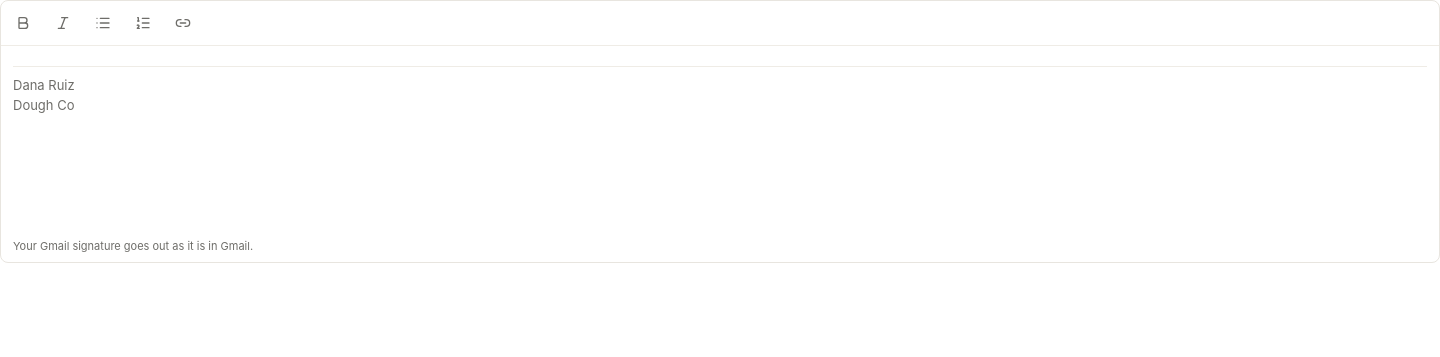
MailEditor › closes the link row with Cancel or a second press of Link, on a phone too
What coordinates should you click on to do the following:
click the button named "Link"
I would click on:
 (183, 23)
Its box is x1=165 y1=5 x2=201 y2=41.
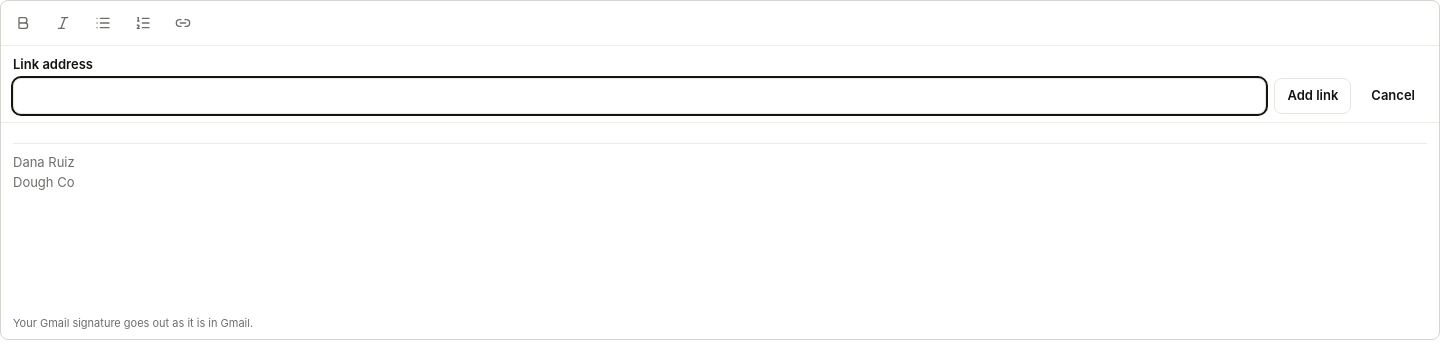
What coordinates should you click on to do the following:
click the button "Cancel"
I would click on:
 (1393, 96)
Its box is x1=1359 y1=78 x2=1427 y2=114.
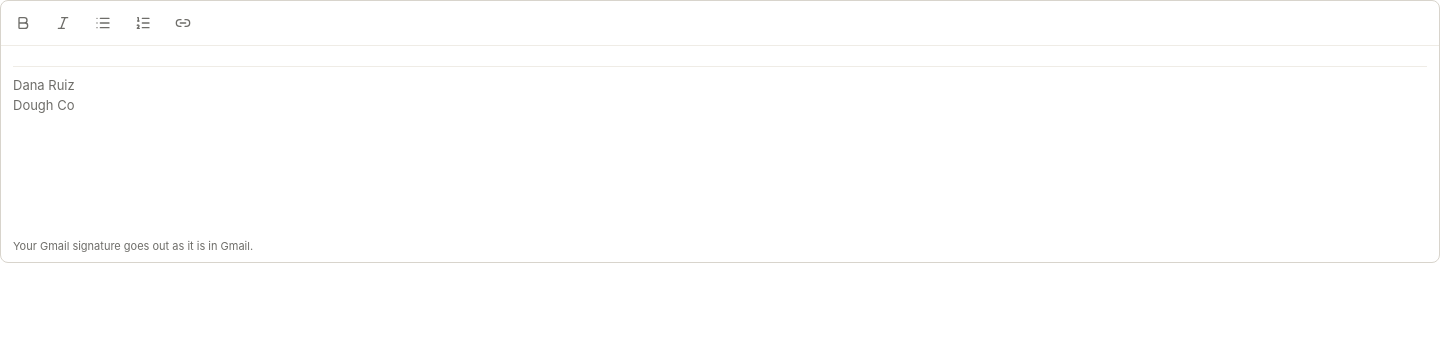
Now the text labelled "Link address" is gone
What coordinates should you click on to do the following:
click the button named "Link"
I would click on:
 (183, 23)
Its box is x1=165 y1=5 x2=201 y2=41.
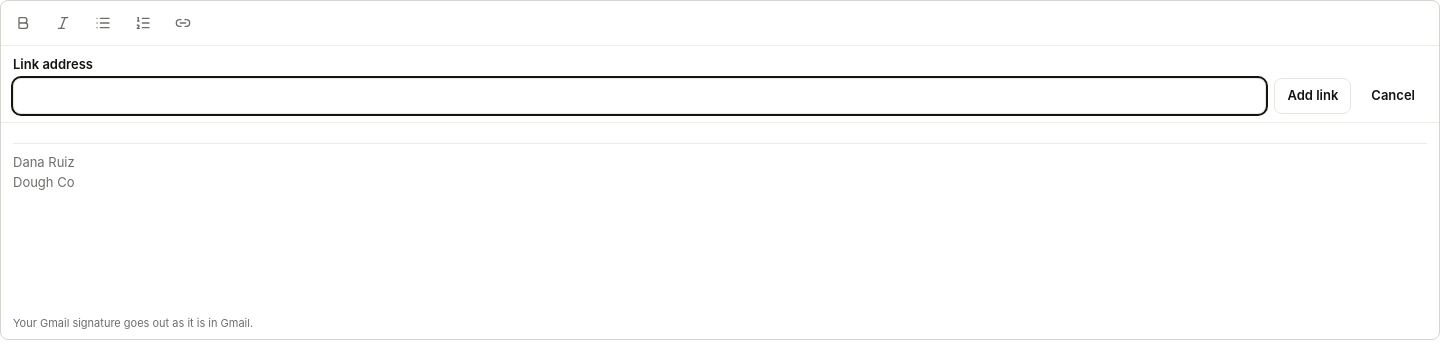
Now the field labelled "Link address" is shown, box x1=13 y1=78 x2=1266 y2=114
What coordinates should you click on to do the following:
click the button named "Link"
I would click on:
 (183, 23)
Its box is x1=165 y1=5 x2=201 y2=41.
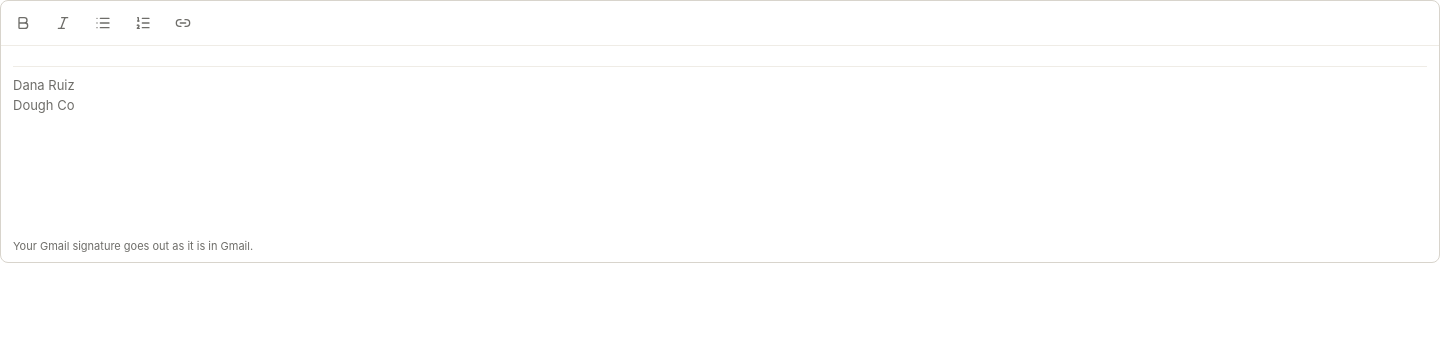
Now the text labelled "Link address" is gone
